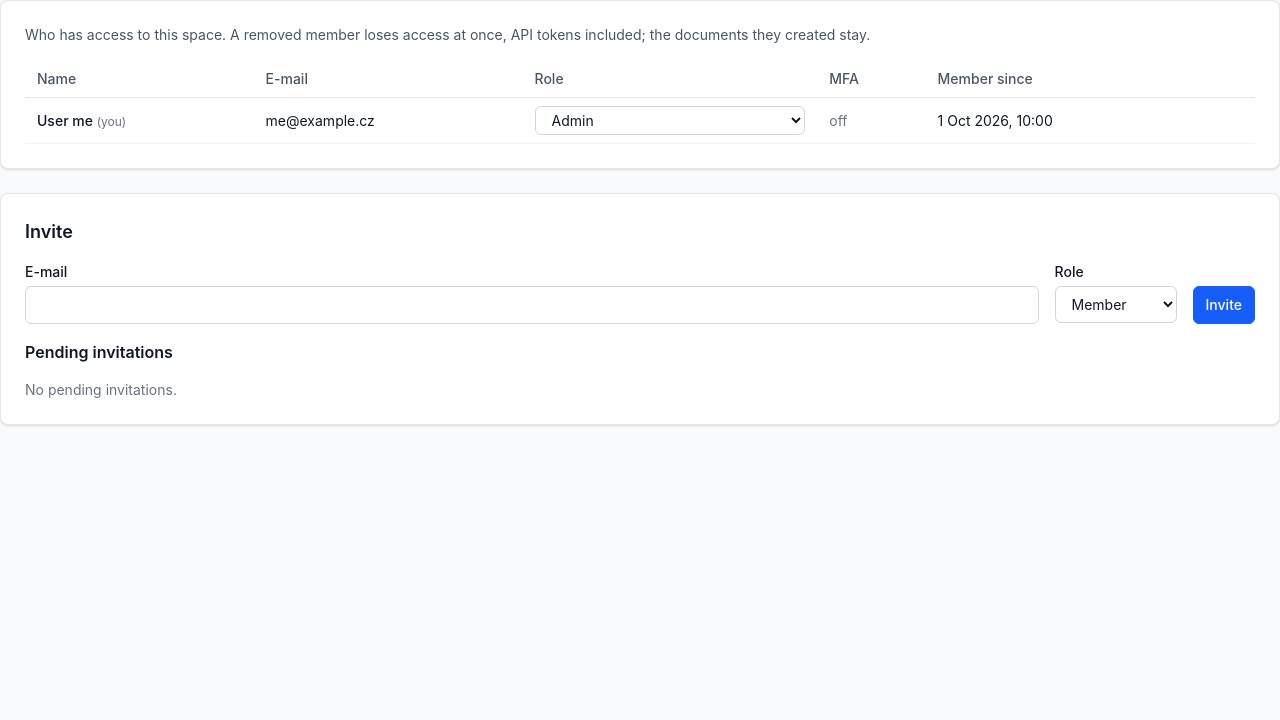
Test: MembersTab › shows invite validation at the fields
Submit the form, box [25, 262, 1255, 324]
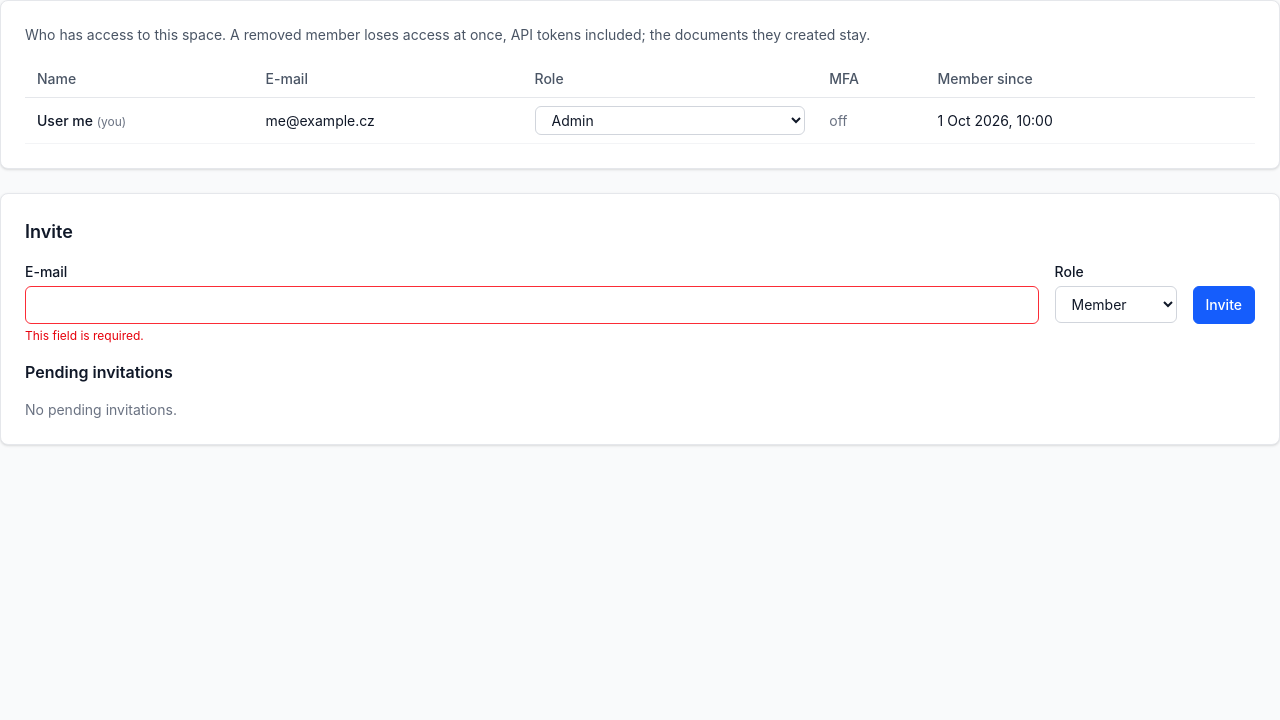
Result: the text with id "invite-email-error" reads "This field is required." at [25, 328, 144, 343]
Type "jana@example.cz" into the field with test id "invite-email" at (532, 305), box [25, 286, 1038, 324]
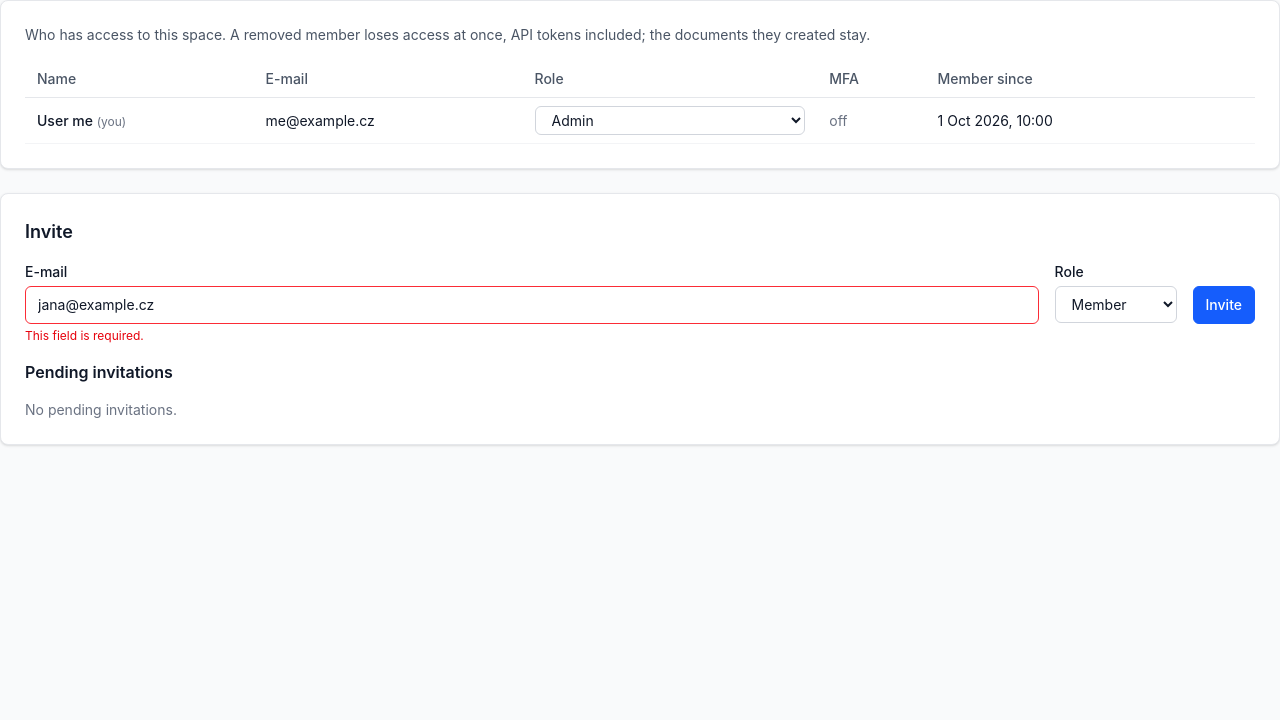
Submit the form, box [25, 262, 1255, 344]
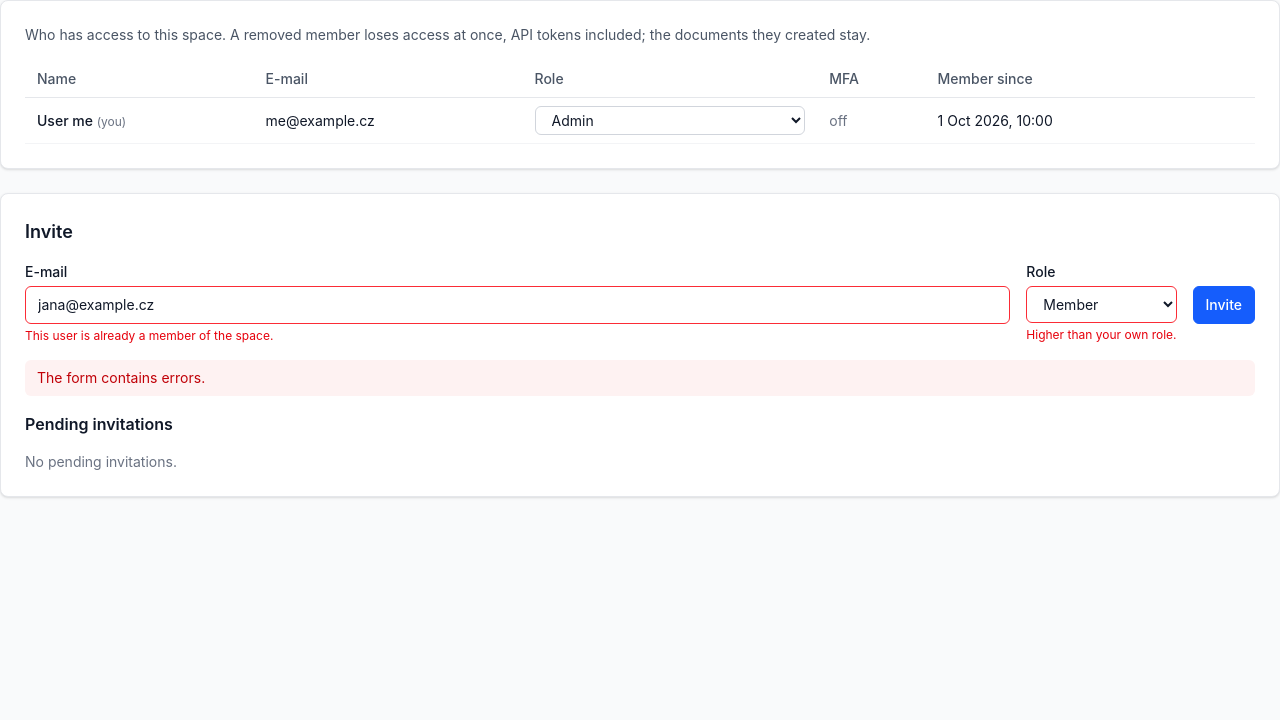
Result: the text with id "invite-email-error" reads "This user is already a member of the space." at [25, 328, 273, 343]
Result: the text with id "invite-role-error" reads "Higher than your own role." at [1026, 327, 1176, 342]
